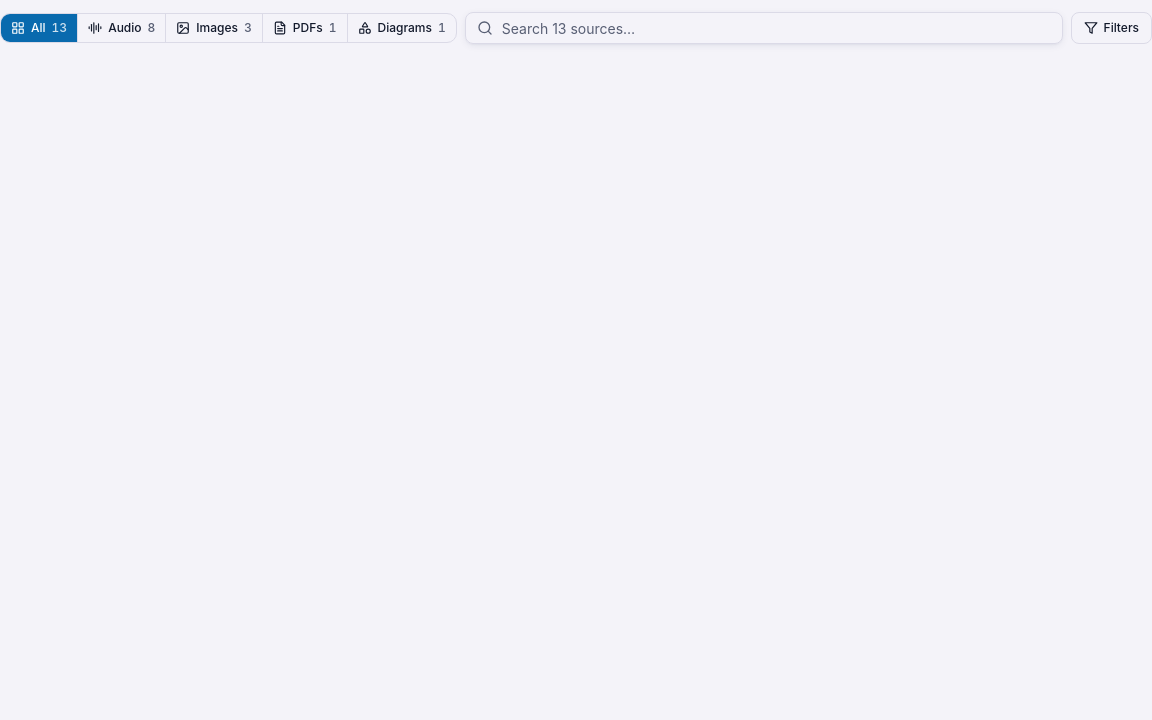
Test: LibraryFilters — capability-specific controls › uses exact availability language without accounting jargon
Step 1. Click the button with aria-label "More filters and sorting" → (1111,28), box [1071, 12, 1151, 44]
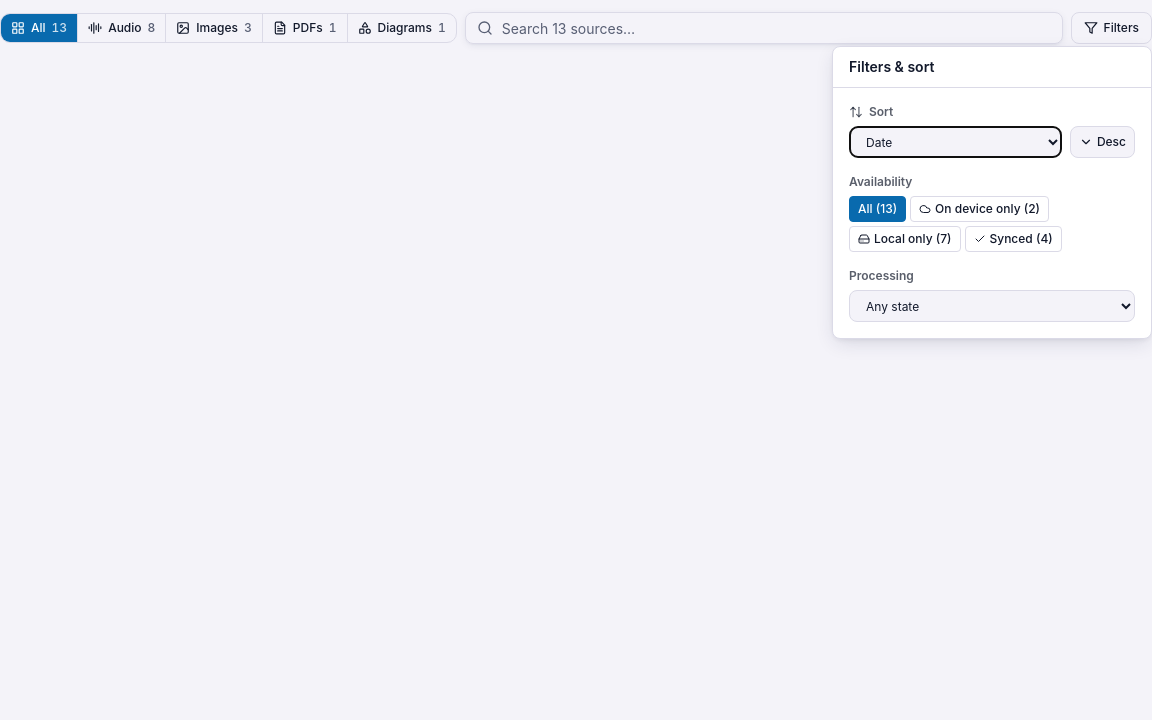
Expected: the button "On device only (2)" is shown, [910, 196, 1049, 222]
